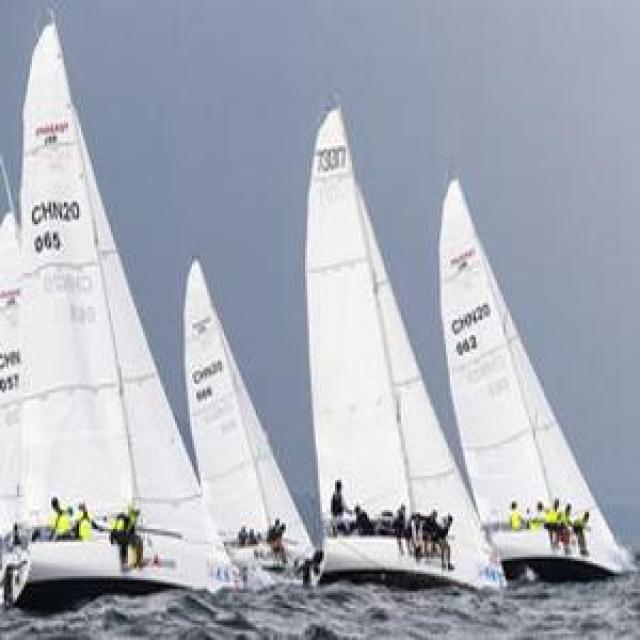sailboat: (0, 0, 247, 591), (272, 104, 488, 592), (418, 174, 616, 582), (163, 246, 322, 577)
